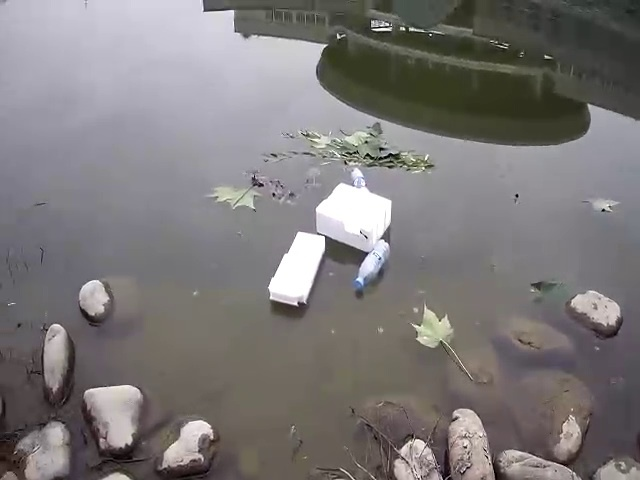bottle: (352, 237, 390, 295), (348, 169, 374, 197)
leaf: (287, 119, 439, 171), (407, 305, 461, 348), (203, 185, 265, 215), (526, 267, 569, 305), (582, 192, 621, 219)
paomo: (316, 175, 392, 248), (265, 227, 327, 313)
